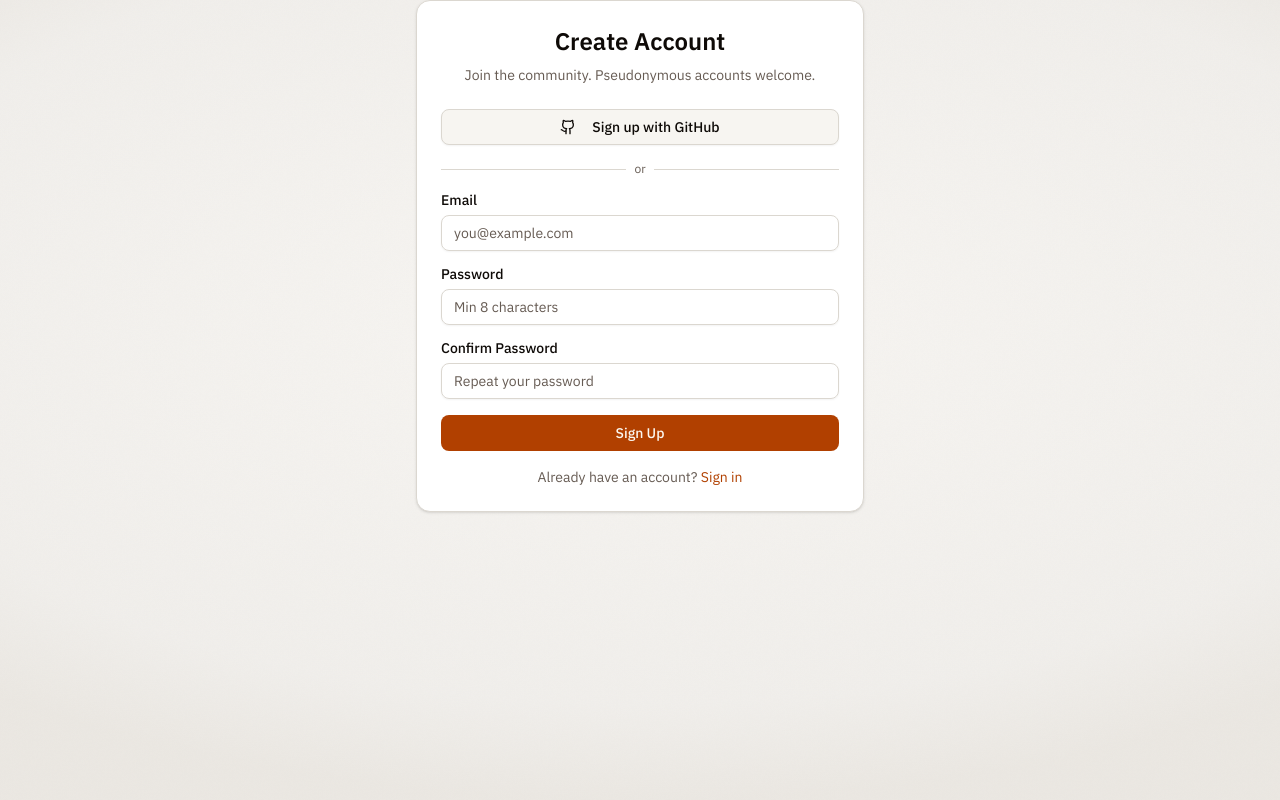
it: RegisterForm › shows error when password is too short
Type "test@example.com" into the field labelled "Email". click: (640, 233)
box: [441, 215, 839, 251]
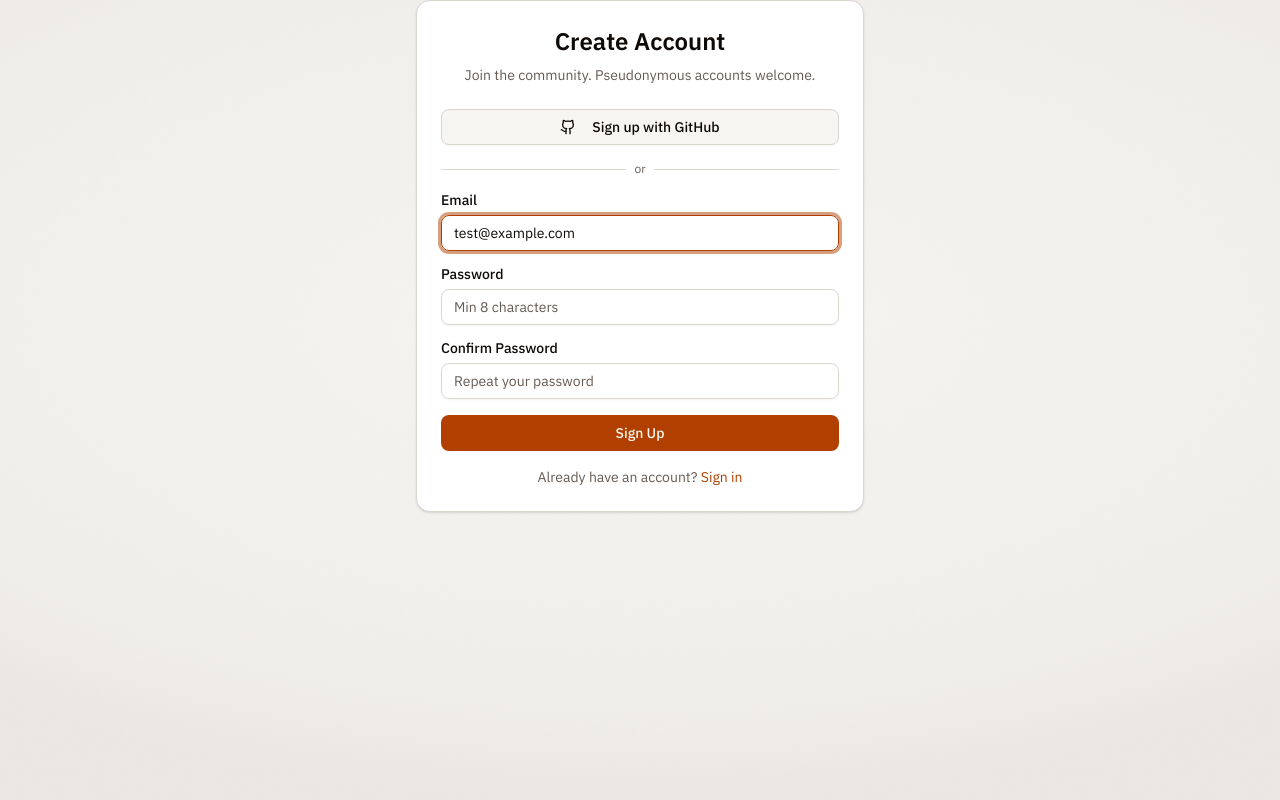
Type "short" into the password field labelled "Password". click: (640, 307)
box: [441, 289, 839, 325]
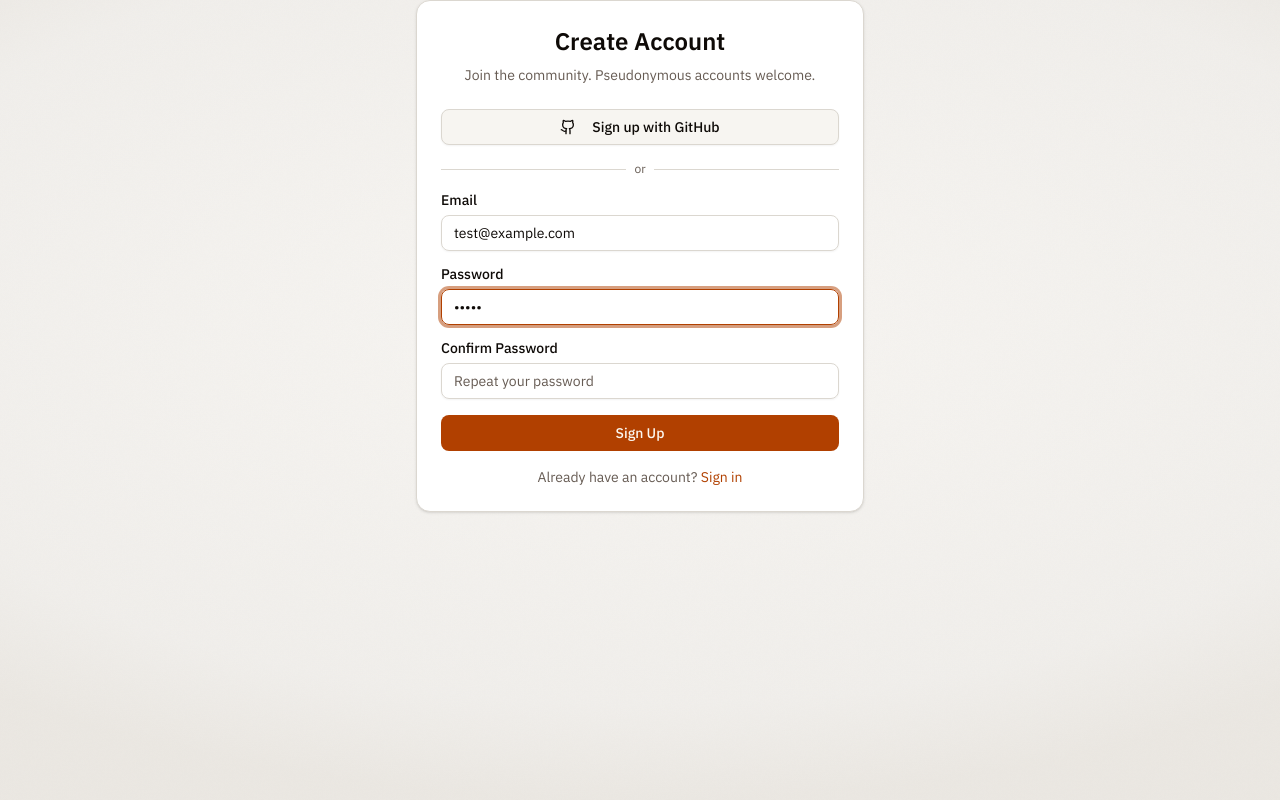
Type "short" into the password field labelled "Confirm Password". click: (640, 381)
box: [441, 363, 839, 399]
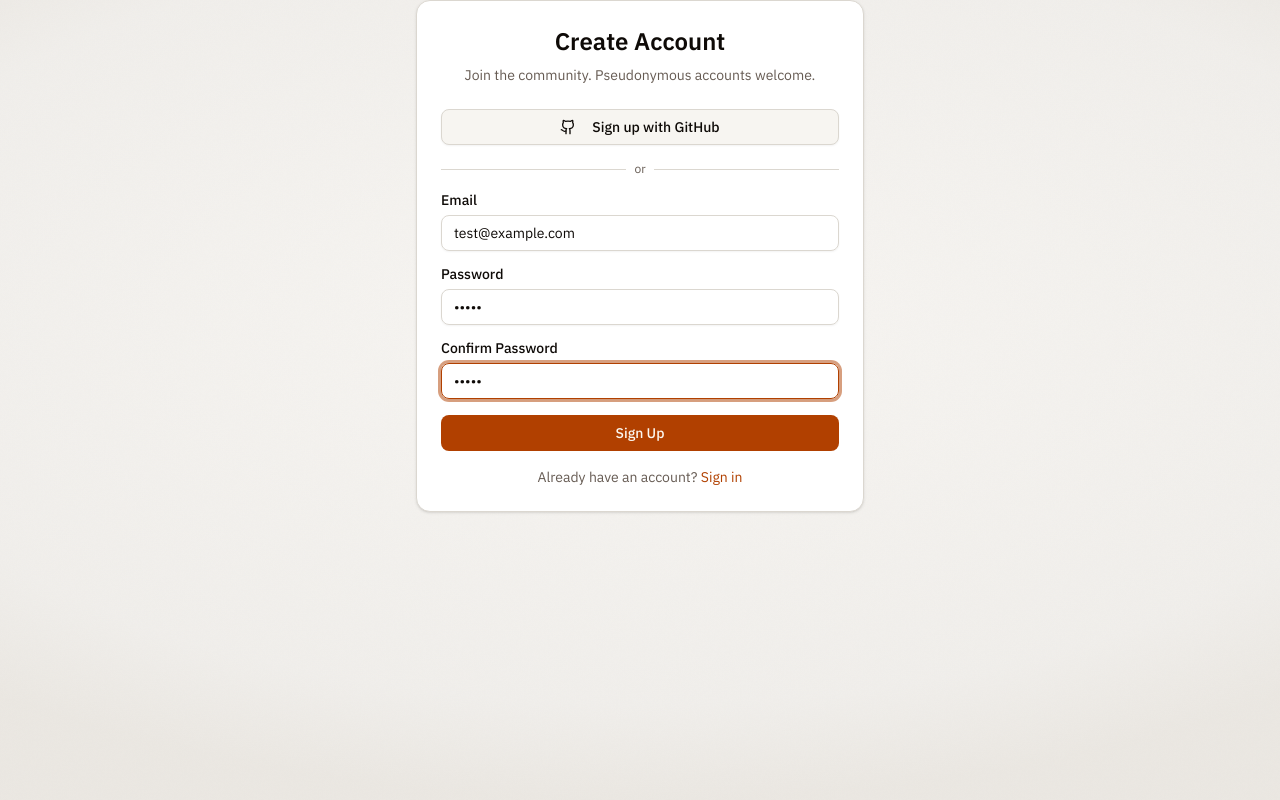
Click the button "Sign Up". click: (640, 433)
box: [441, 415, 839, 451]
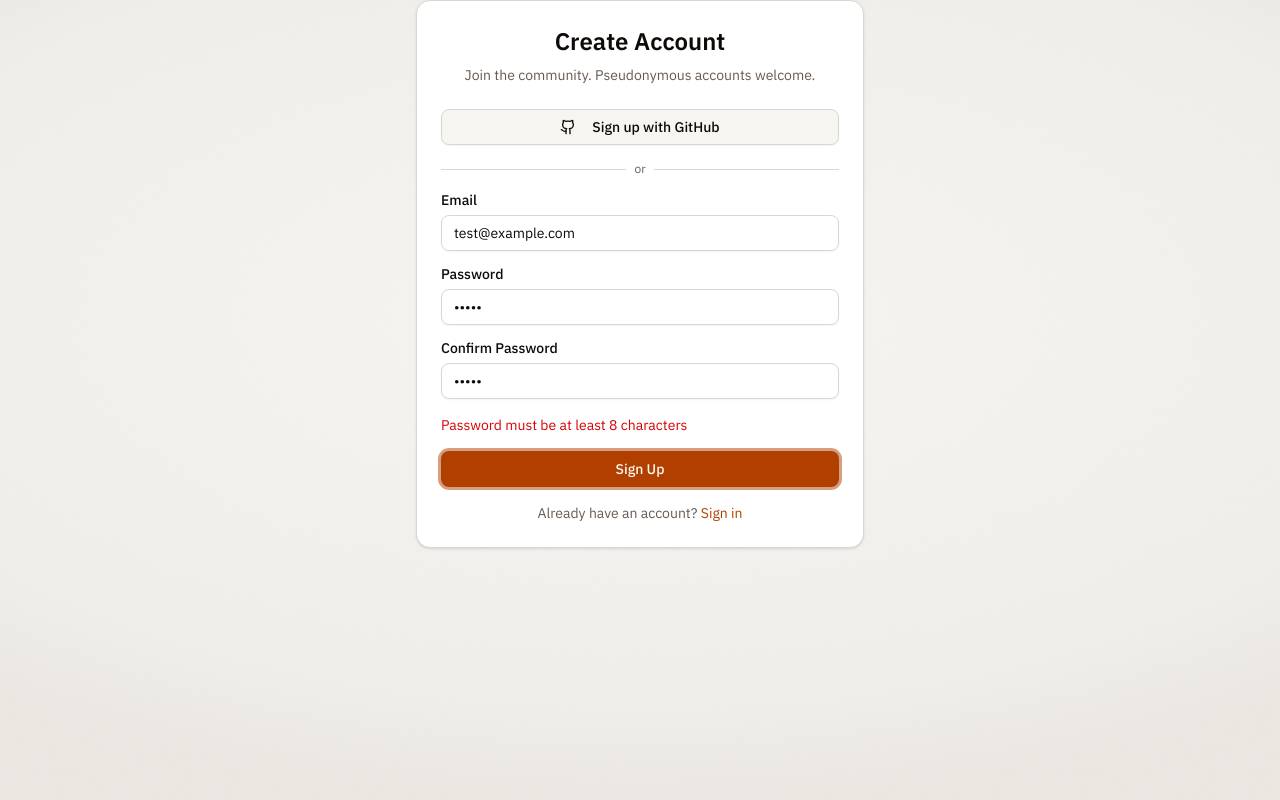
Now the text "Password must be at least 8 characters" is shown, box [441, 416, 687, 434]
